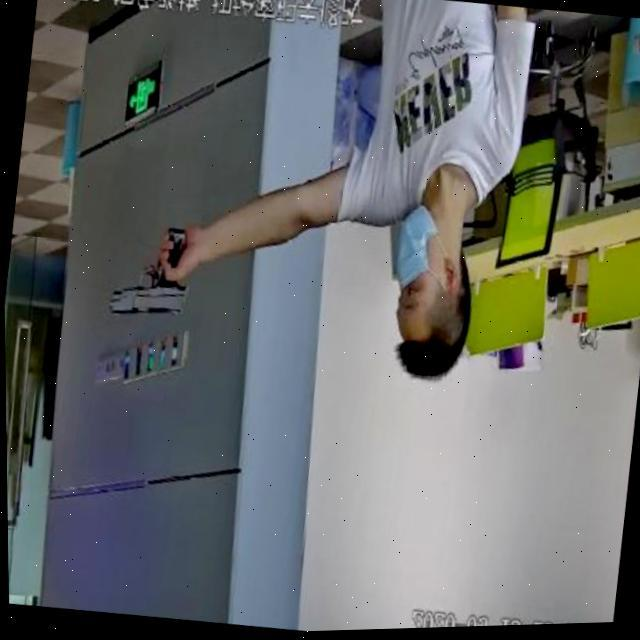gun: (98, 212, 208, 357)
